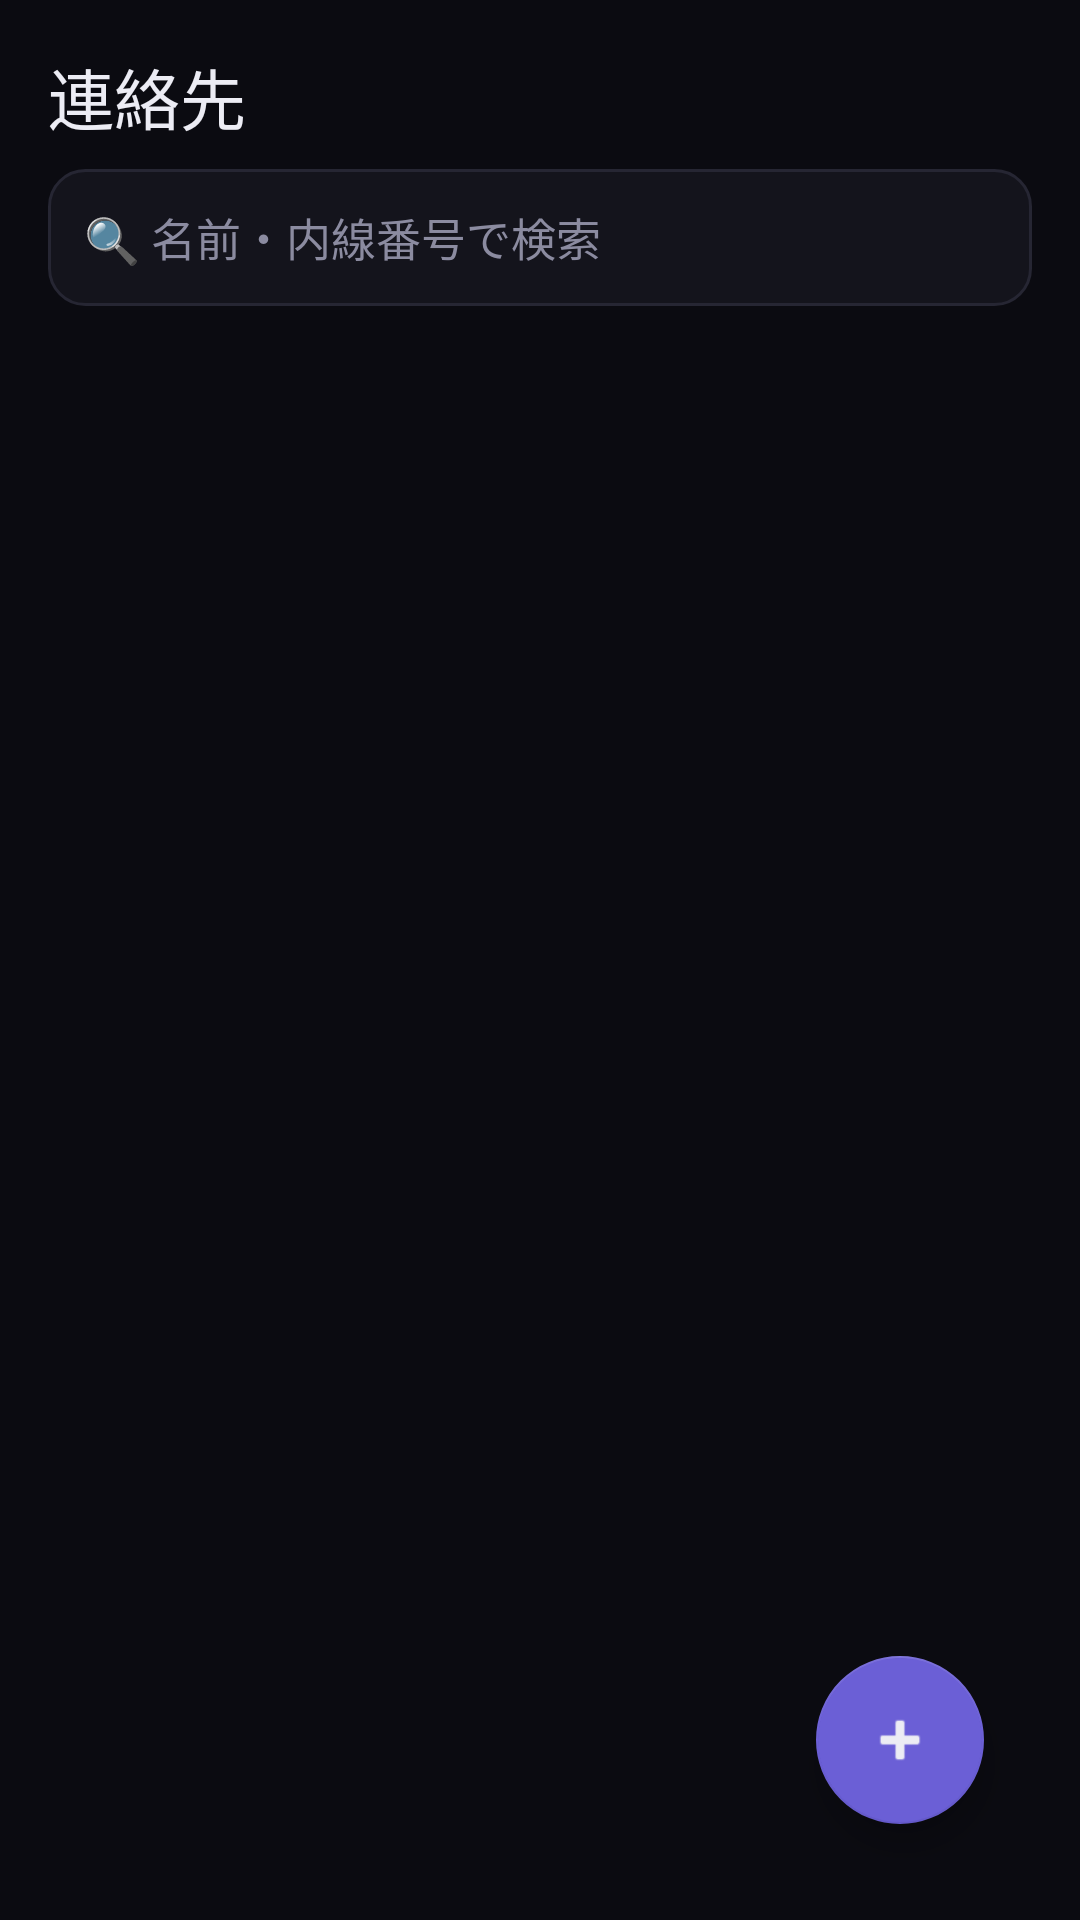

Named icons in this screenshot (1080 × 1920) and their centers, (x=x, y=y):
連絡先を追加: (x=900, y=1740)
